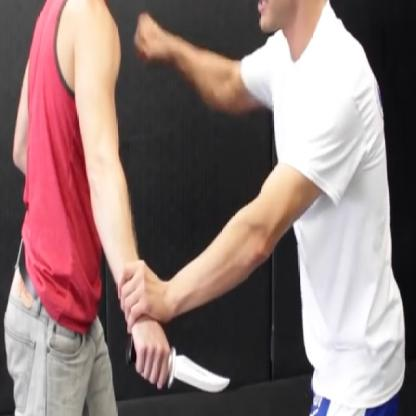knife: (121, 328, 235, 406)
